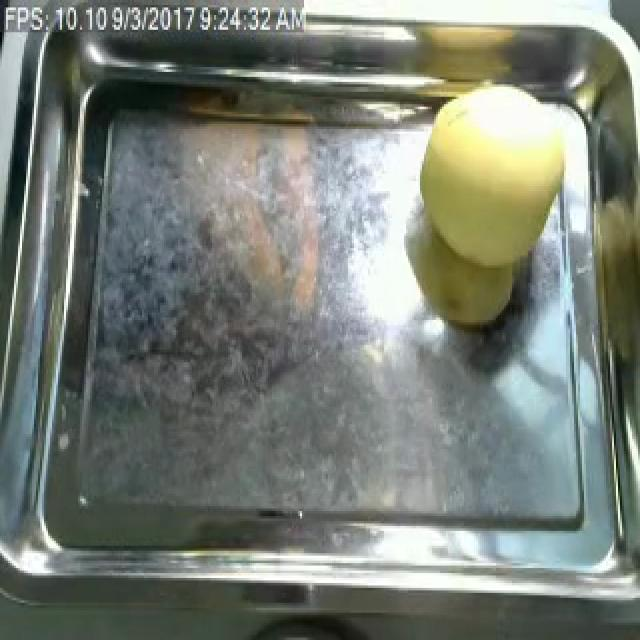Fruit: (408, 87, 600, 275)
